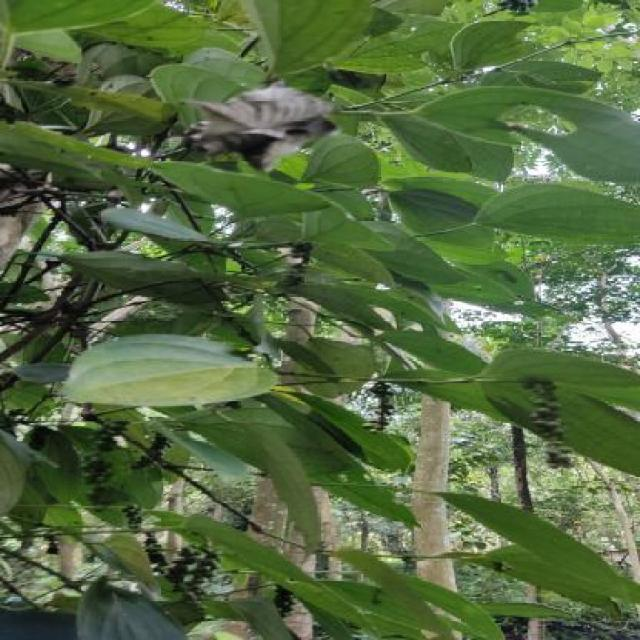UNRIPE: (144, 531, 219, 615), (518, 379, 576, 468), (79, 420, 126, 486), (362, 381, 393, 432), (278, 243, 315, 285), (133, 433, 172, 467), (270, 586, 295, 617), (498, 1, 532, 13), (125, 505, 139, 529)
